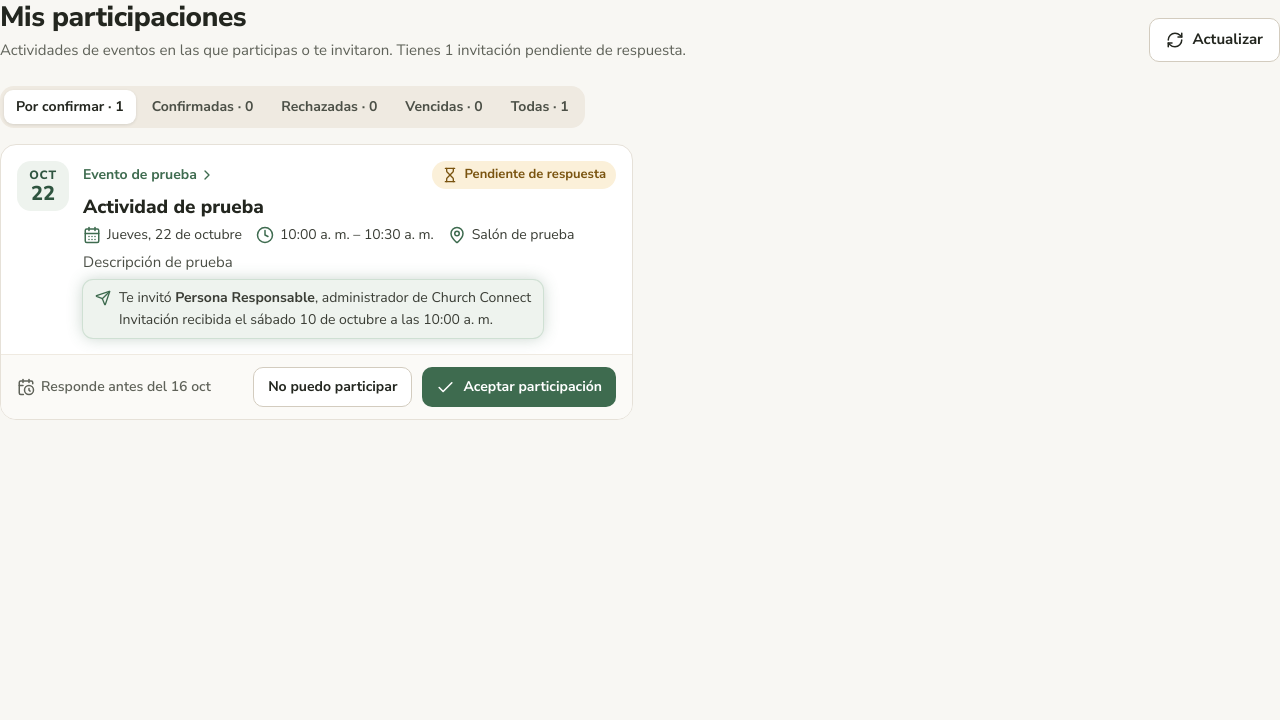
Test case: ParticipationsPage › rechazar: contador del motivo, límite de 255 y cierre con Volver
This screenshot has width=1280, height=720.
Step 1. Click the button with aria-label "Rechazar participación en" → [333, 387], box [253, 367, 412, 407]
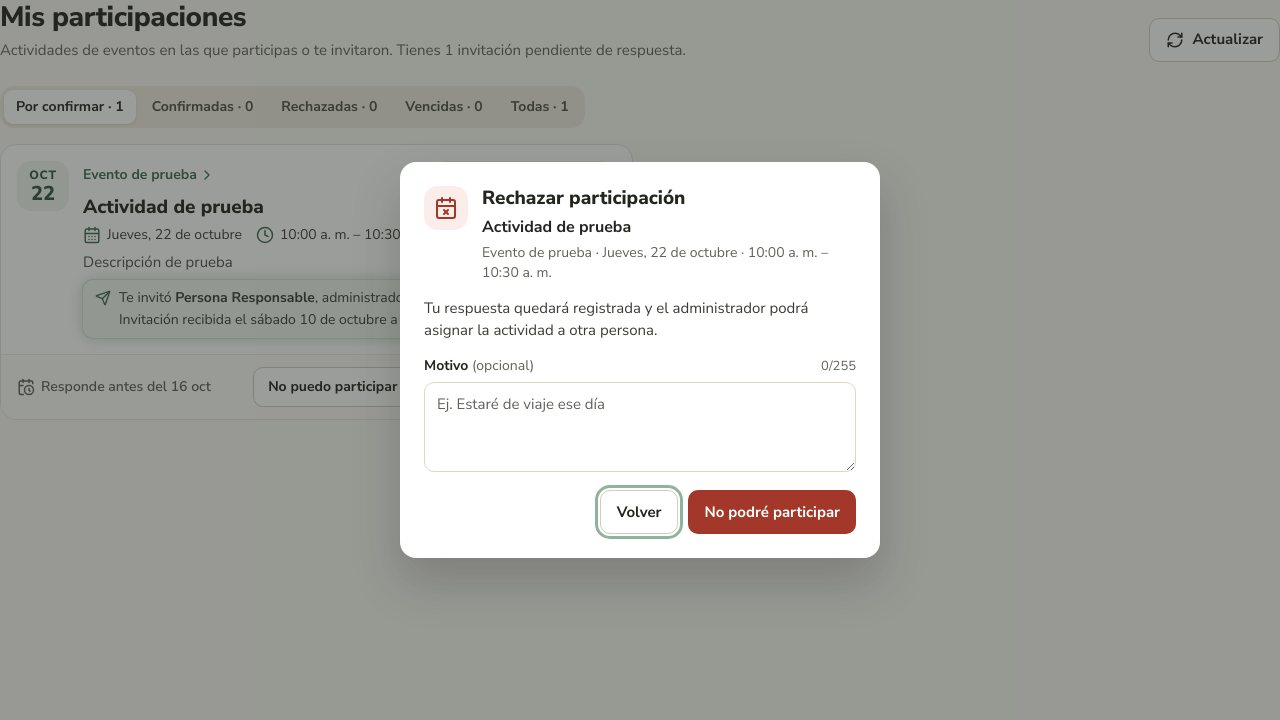
Now the text "0/255" is shown, box [821, 357, 856, 376]
Step 2. Type "Estaré de viaje" into the text box labelled "Motivo (opcional)" → [640, 427], box [424, 382, 856, 472]
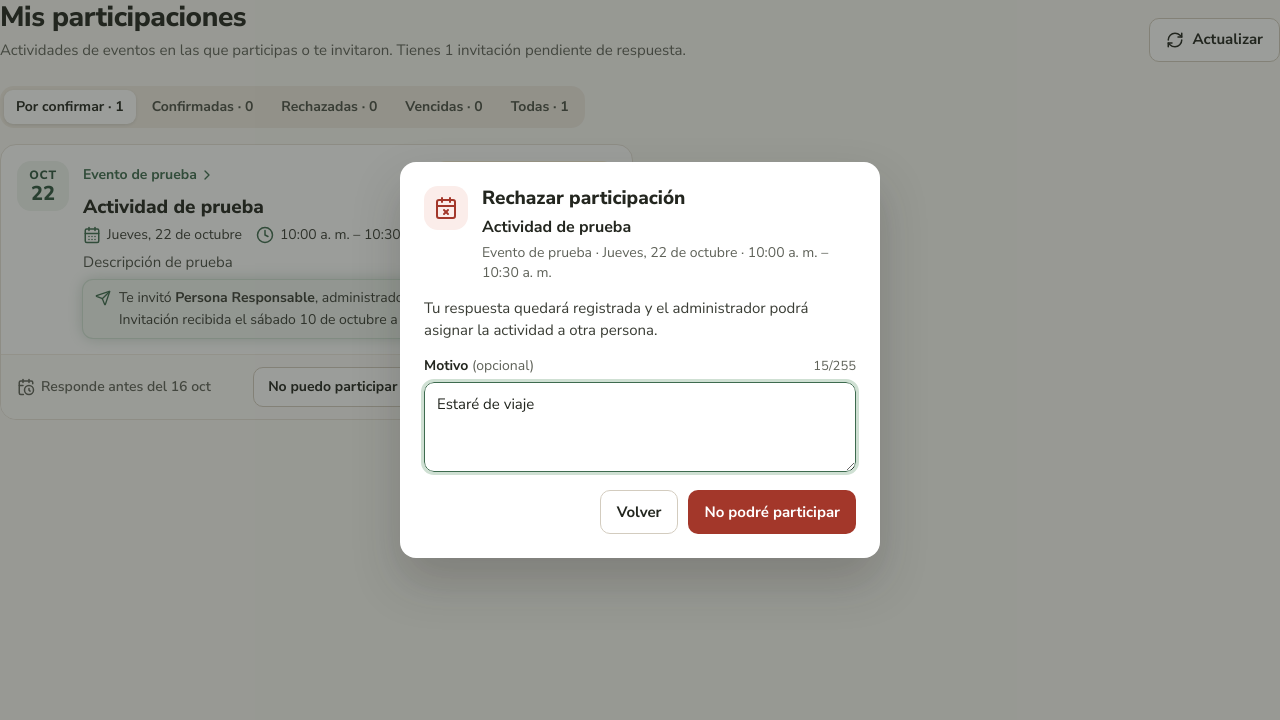
Now the text "15/255" is shown, box [813, 357, 856, 376]
Step 3. Click the button "Volver" → [639, 512], box [600, 490, 678, 534]
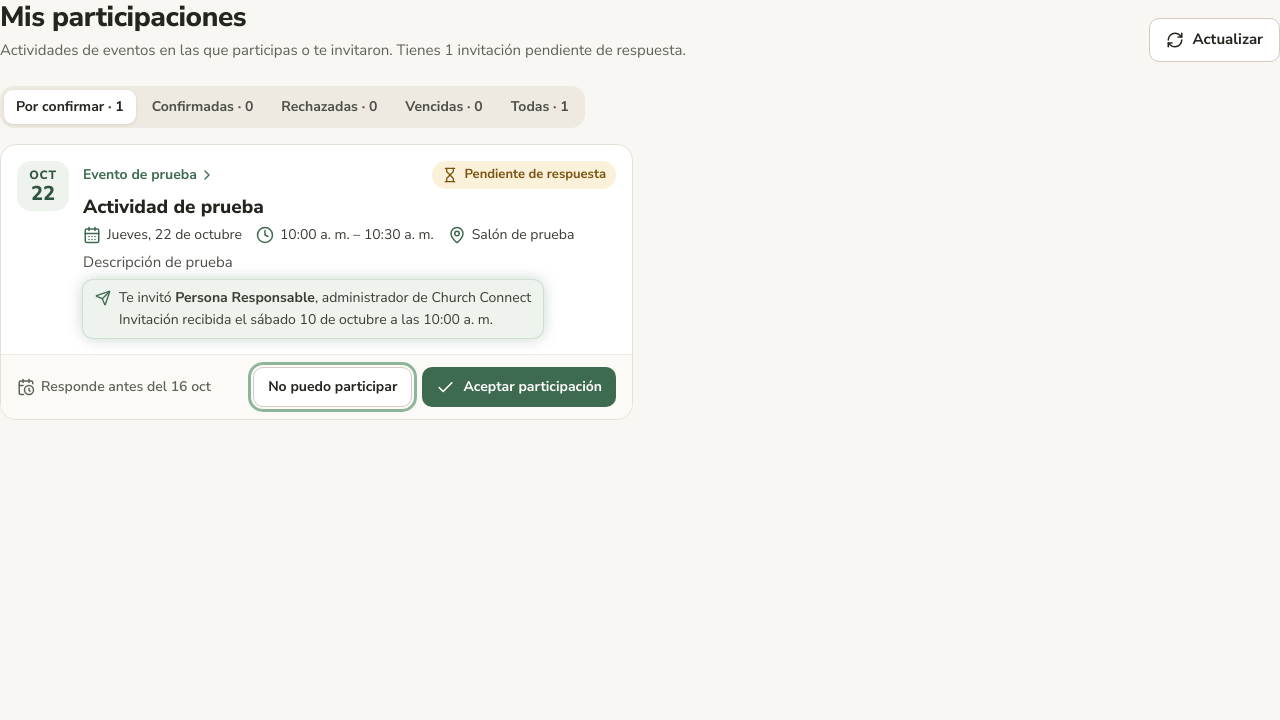
Now the dialog is gone
